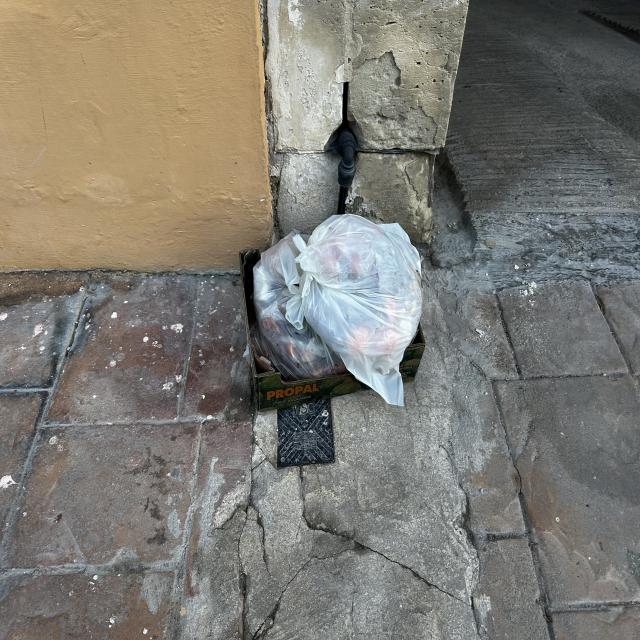Organic Waste -White Bags-: (251, 214, 423, 406)
